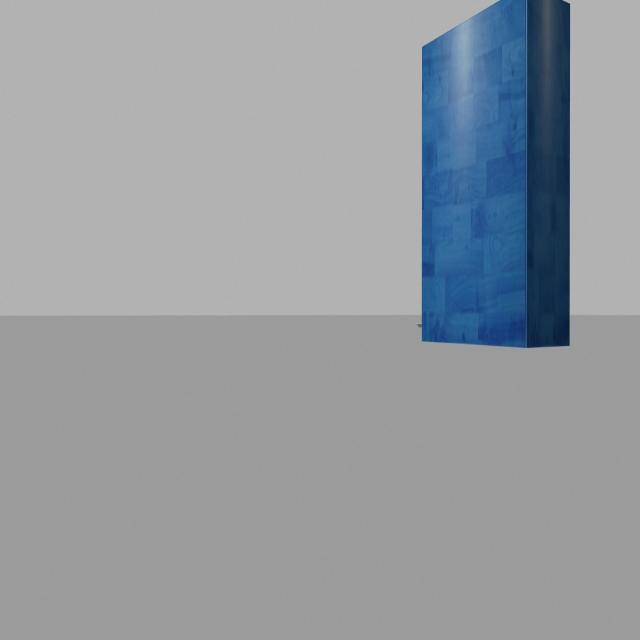bowl: (410, 316, 431, 334)
shelf: (415, 0, 574, 359)
